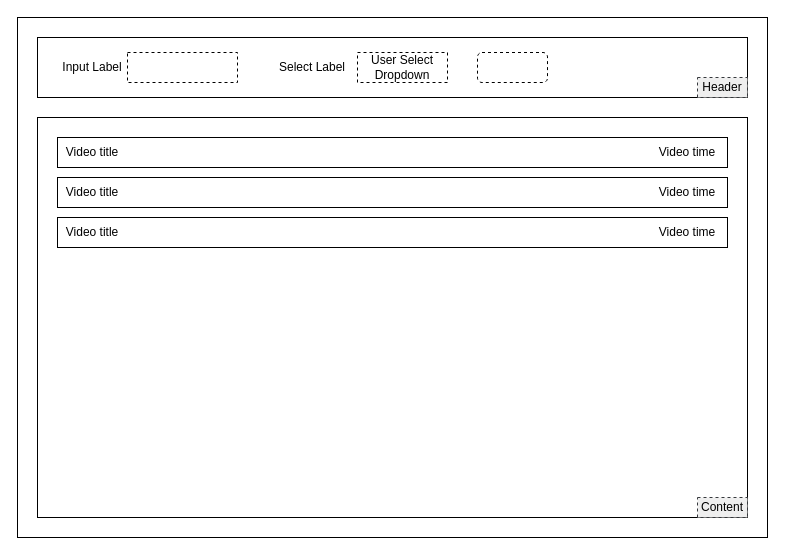
Image size: 785x555. Some labels were removed from this diagram. The shapes that lost their labels are listed below. From the top down, each one's centre as x and y in pixels, then its label:
At pixel 182 67: "Search Text Input".
At pixel 512 67: "Search Button".
